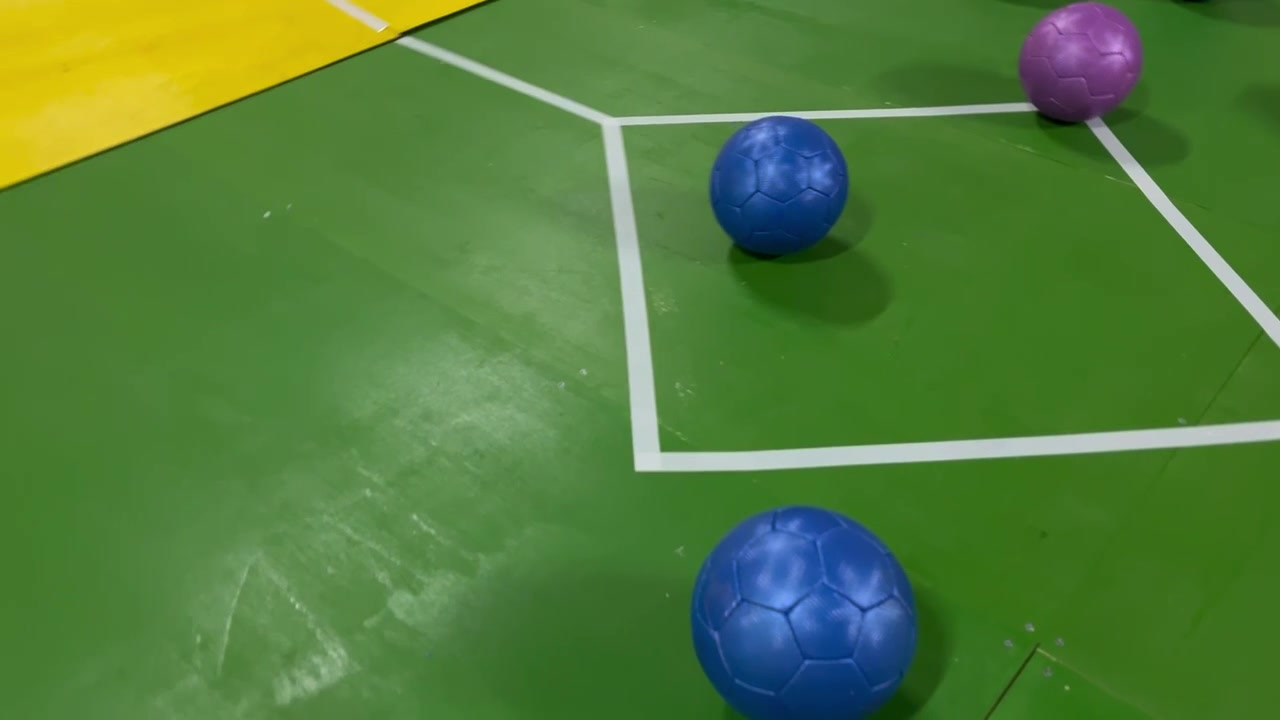blue: (672, 502, 934, 720), (710, 99, 854, 259)
